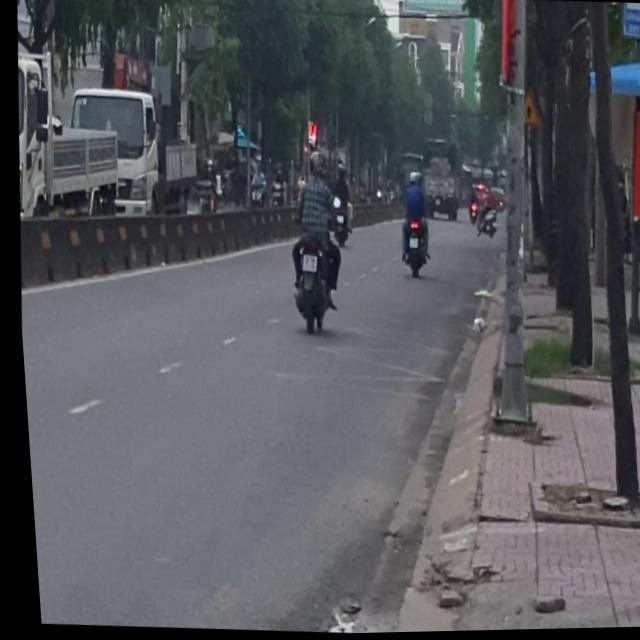helmet: (304, 149, 322, 178)
licenseplate: (275, 143, 348, 338)
nohelmet: (297, 254, 313, 273)
